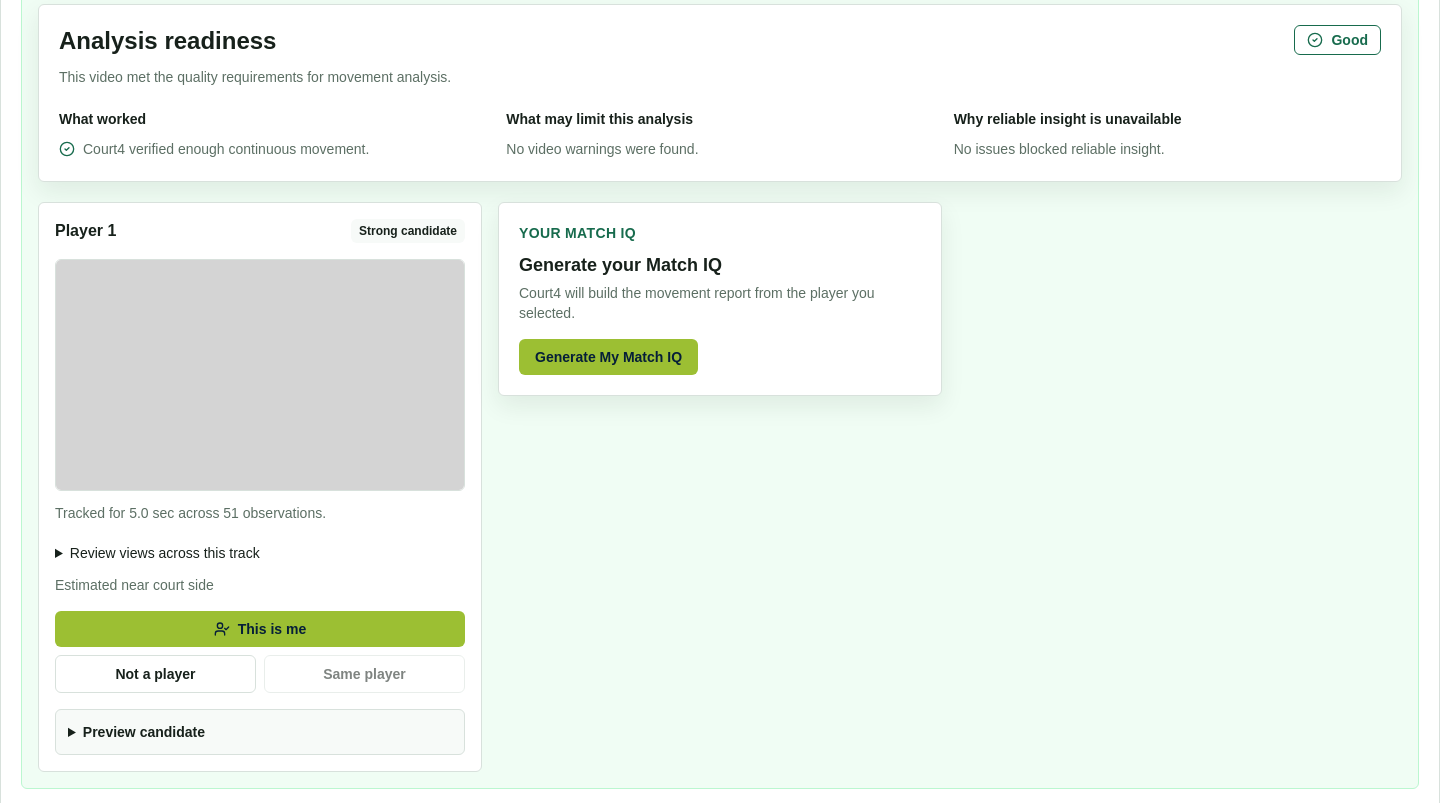
it: match details workflow › keeps a confirmed selection through a later 429 candidate refresh
The image size is (1440, 803).
(page scrolled)
Click the button "This is me" at {"x": 260, "y": 628}, box [55,610,465,646]
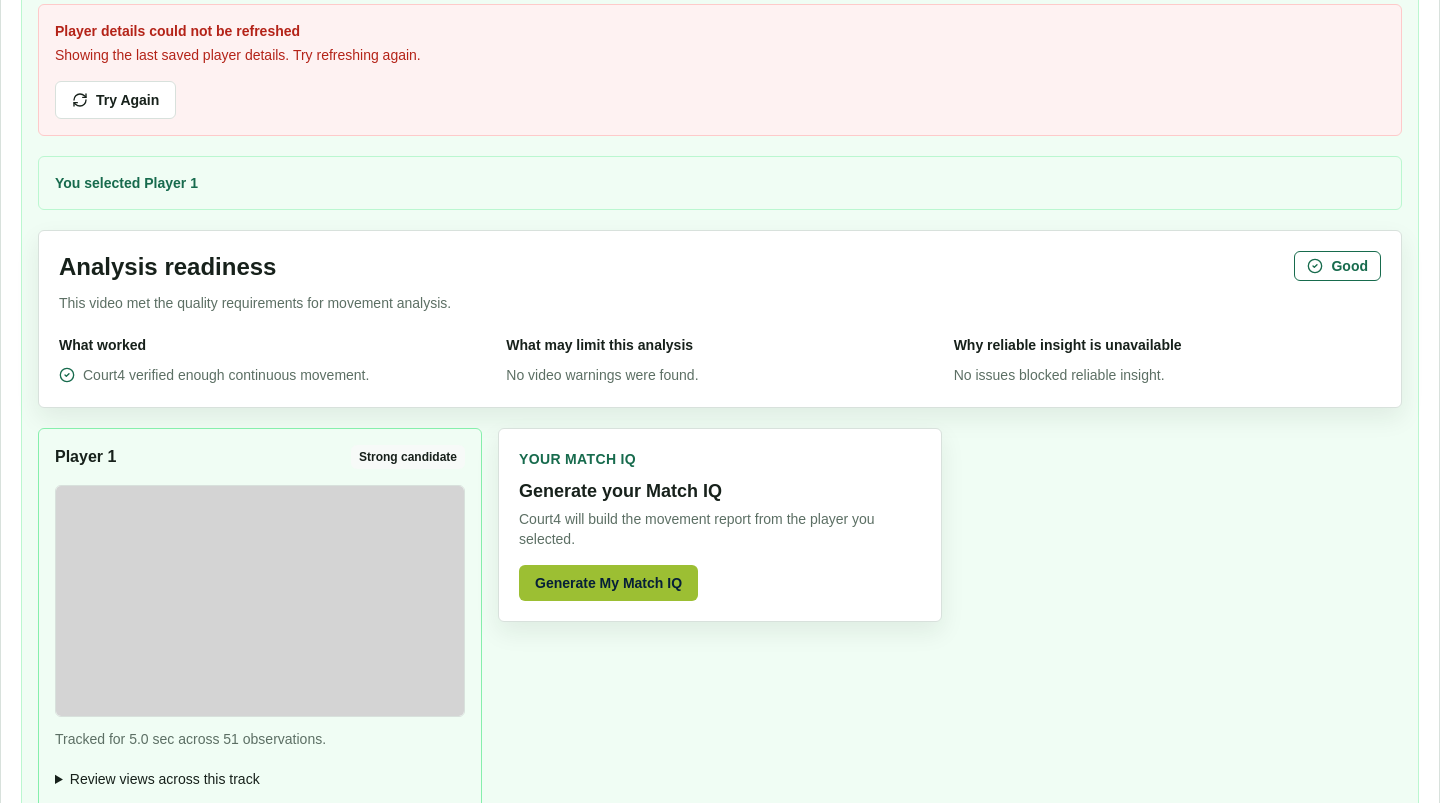
Expected: the heading "Player 1" is shown, [55,445,116,469]
Now the text "Player details could not be refreshed" is shown, box [55,23,300,39]
Now the text "You selected Player 1" is shown, box [38,156,1402,210]
